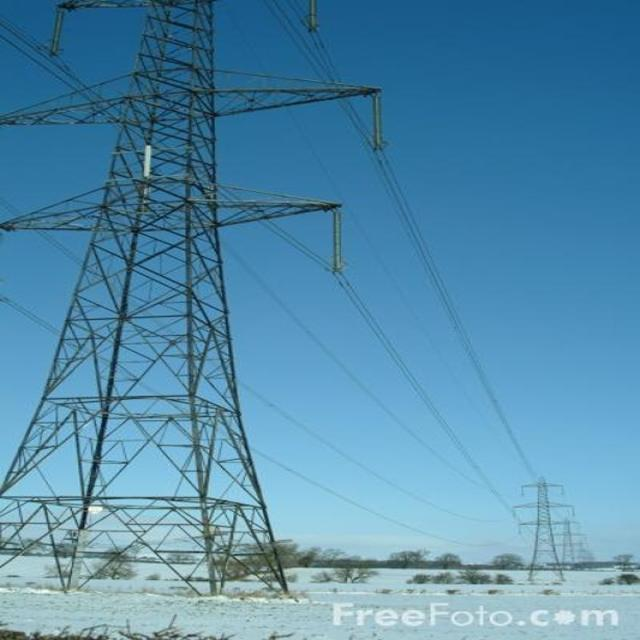non-critical vegetation: (11, 5, 338, 588), (512, 474, 576, 588)
